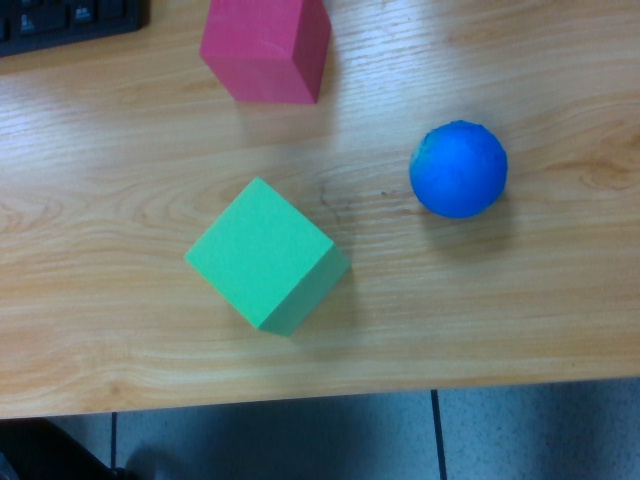blueball: (407, 117, 508, 222)
green: (179, 176, 351, 332)
red: (194, 1, 332, 102)
